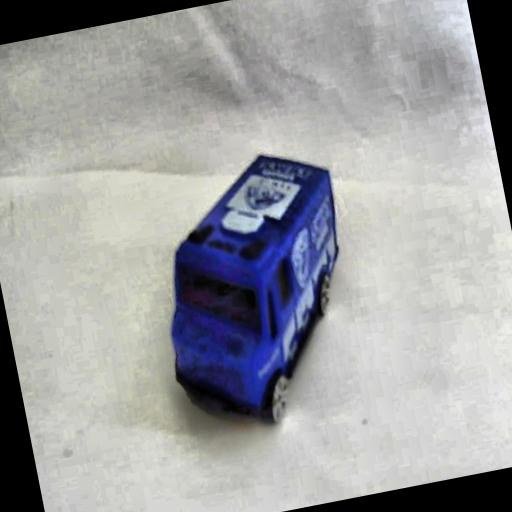police car: (131, 133, 378, 446)
